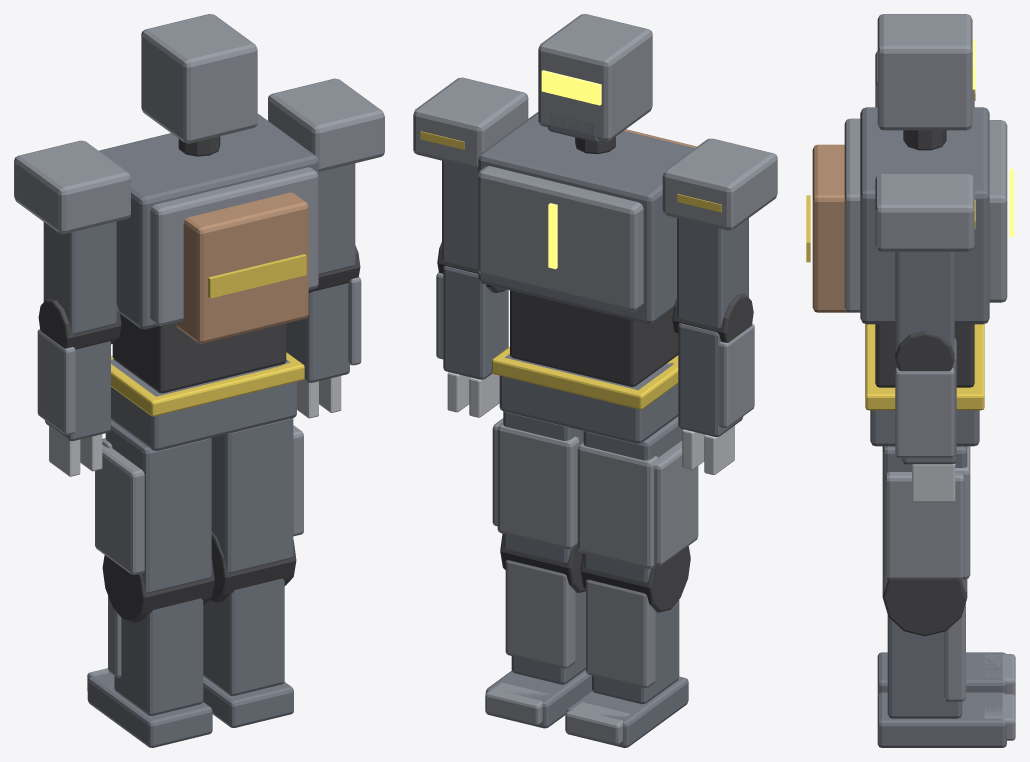
File: robot_g1.glb
3 renders of one model, left to right at view 1: azimuth 30°, elevation 25°; view 2: azimuth 150°, elevation 25°; view 3: azimuth 270°, elevation 25°, orthographic. The views are drawn at different scales.
Visible parts, largest first — view 1: backpack, chest, head, thigh2, thigh0, shin0, pauldron0, back_plate, abdomen, shin2, pauldron2, pelvis (+20 smaller); view 2: chest_plate, chest, head, abdomen, thigh_plate2, thigh_plate0, pauldron0, pauldron2, pelvis, shin_plate2, upperarm0, shin_plate0 (+25 smaller); view 3: chest, head, pauldron2, thigh_side2, backpack, shin2, forearm_plate2, upperarm2, foot2, knee2, chest_plate, back_plate (+13 smaller).
Part boxes in pixels (<box>): backpack: <box>176,192,308,343</box>; chest: <box>99,114,318,329</box>; head: <box>141,14,257,143</box>; thigh2: <box>211,418,293,573</box>; thigh0: <box>105,420,211,593</box>; shin0: <box>114,598,203,715</box>; pauldron0: <box>14,140,130,233</box>; back_plate: <box>150,167,318,325</box>; abdomen: <box>112,314,286,393</box>; shin2: <box>203,578,284,695</box>; pauldron2: <box>268,78,384,171</box>; pelvis: <box>111,359,296,450</box>; chest_plate: <box>478,166,643,311</box>; chest: <box>478,112,694,323</box>; head: <box>538,14,652,141</box>; abdomen: <box>510,290,678,386</box>; thigh_plate2: <box>497,422,579,549</box>; thigh_plate0: <box>577,441,659,568</box>; pauldron0: <box>662,138,777,230</box>; pauldron2: <box>413,77,528,169</box>; pelvis: <box>499,354,678,443</box>; shin_plate2: <box>505,560,575,668</box>; upperarm0: <box>677,218,748,328</box>; shin_plate0: <box>586,579,655,688</box>; chest: <box>860,107,989,324</box>; head: <box>877,14,972,130</box>; pauldron2: <box>875,174,974,251</box>; thigh_side2: <box>885,472,964,579</box>; backpack: <box>812,144,848,312</box>; shin2: <box>887,615,962,718</box>; forearm_plate2: <box>895,367,954,457</box>; upperarm2: <box>895,251,954,352</box>; foot2: <box>877,692,1006,747</box>; knee2: <box>882,579,967,636</box>; chest_plate: <box>989,120,1007,302</box>; back_plate: <box>844,118,860,312</box>.
Size of the model in its own units: 0.8795 by 1.75 by 0.485.
